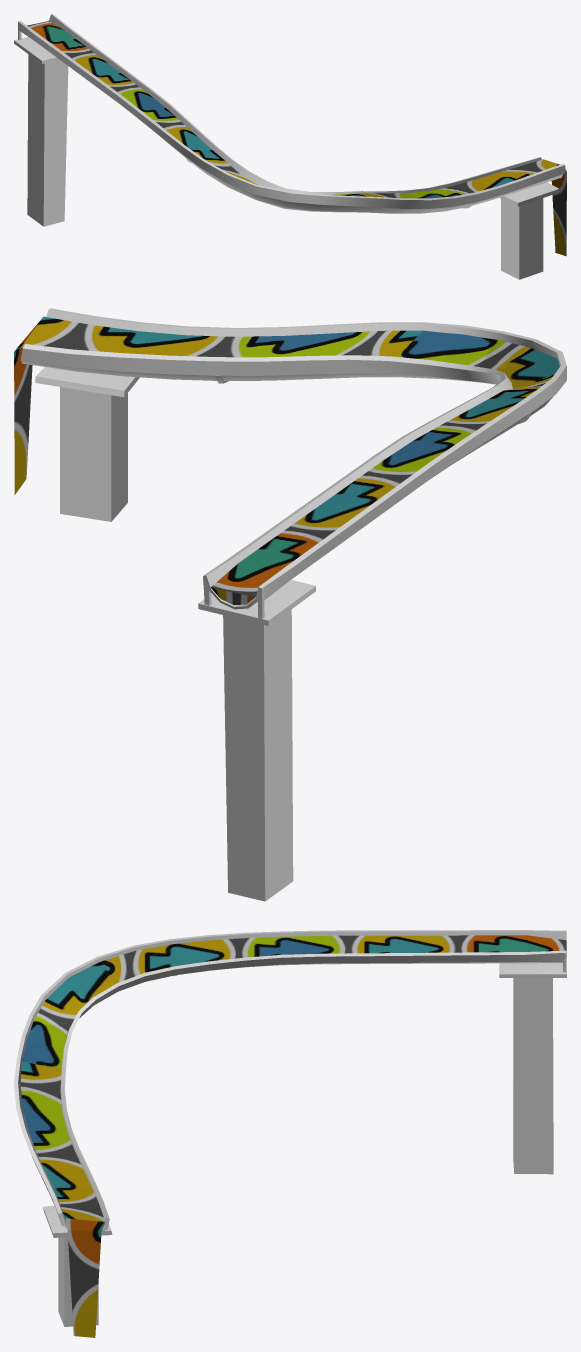
The model's file is Slider 3.fbx.
3 views of the same model, one above another, from view 1: azimuth 30°, elevation 25°; view 2: azimuth 150°, elevation 25°; view 3: azimuth 270°, elevation 25° (orthographic). The views are drawn at different scales.
Parts seen in each view (by area): view 1: slider, water; view 2: slider, water; view 3: water, slider.
Boxes of the visible parts, x1,y1,x2,y2 form: slider: (14, 14, 565, 279); water: (27, 21, 566, 256); slider: (20, 308, 566, 901); water: (14, 316, 559, 605); water: (20, 935, 566, 1337); slider: (14, 930, 566, 1326).
Size of the model in its own units: 0.2446 by 0.1282 by 0.2798.
2 materials, 1 textured.
